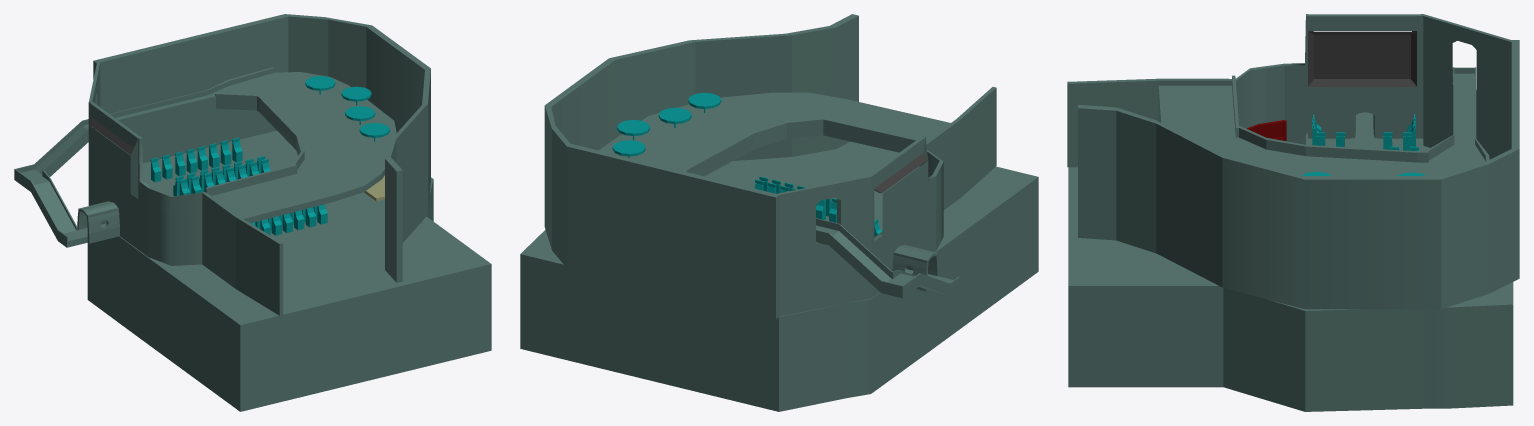
File: Arcade.fbx
3 views of the same model, side by side, from view 1: azimuth 30°, elevation 25°; view 2: azimuth 150°, elevation 25°; view 3: azimuth 270°, elevation 25° (orthographic). The views are drawn at different scales.
Parts seen in each view (by area): view 1: polySurface2, pCube1; view 2: polySurface2, pCube1, polySurface1; view 3: polySurface2, pCube1, polySurface1, pCube7.
Boxes of the visible parts, bbox=[...] form: polySurface2: bbox=[14, 14, 430, 315]; pCube1: bbox=[87, 130, 491, 411]; polySurface2: bbox=[544, 14, 996, 318]; pCube1: bbox=[520, 141, 1038, 411]; polySurface1: bbox=[874, 153, 926, 193]; polySurface2: bbox=[1067, 14, 1519, 309]; pCube1: bbox=[1068, 146, 1513, 411]; polySurface1: bbox=[1308, 31, 1416, 87]; pCube7: bbox=[1246, 120, 1286, 141].
Size of the model in its own units: 125 by 68.74 by 122.
